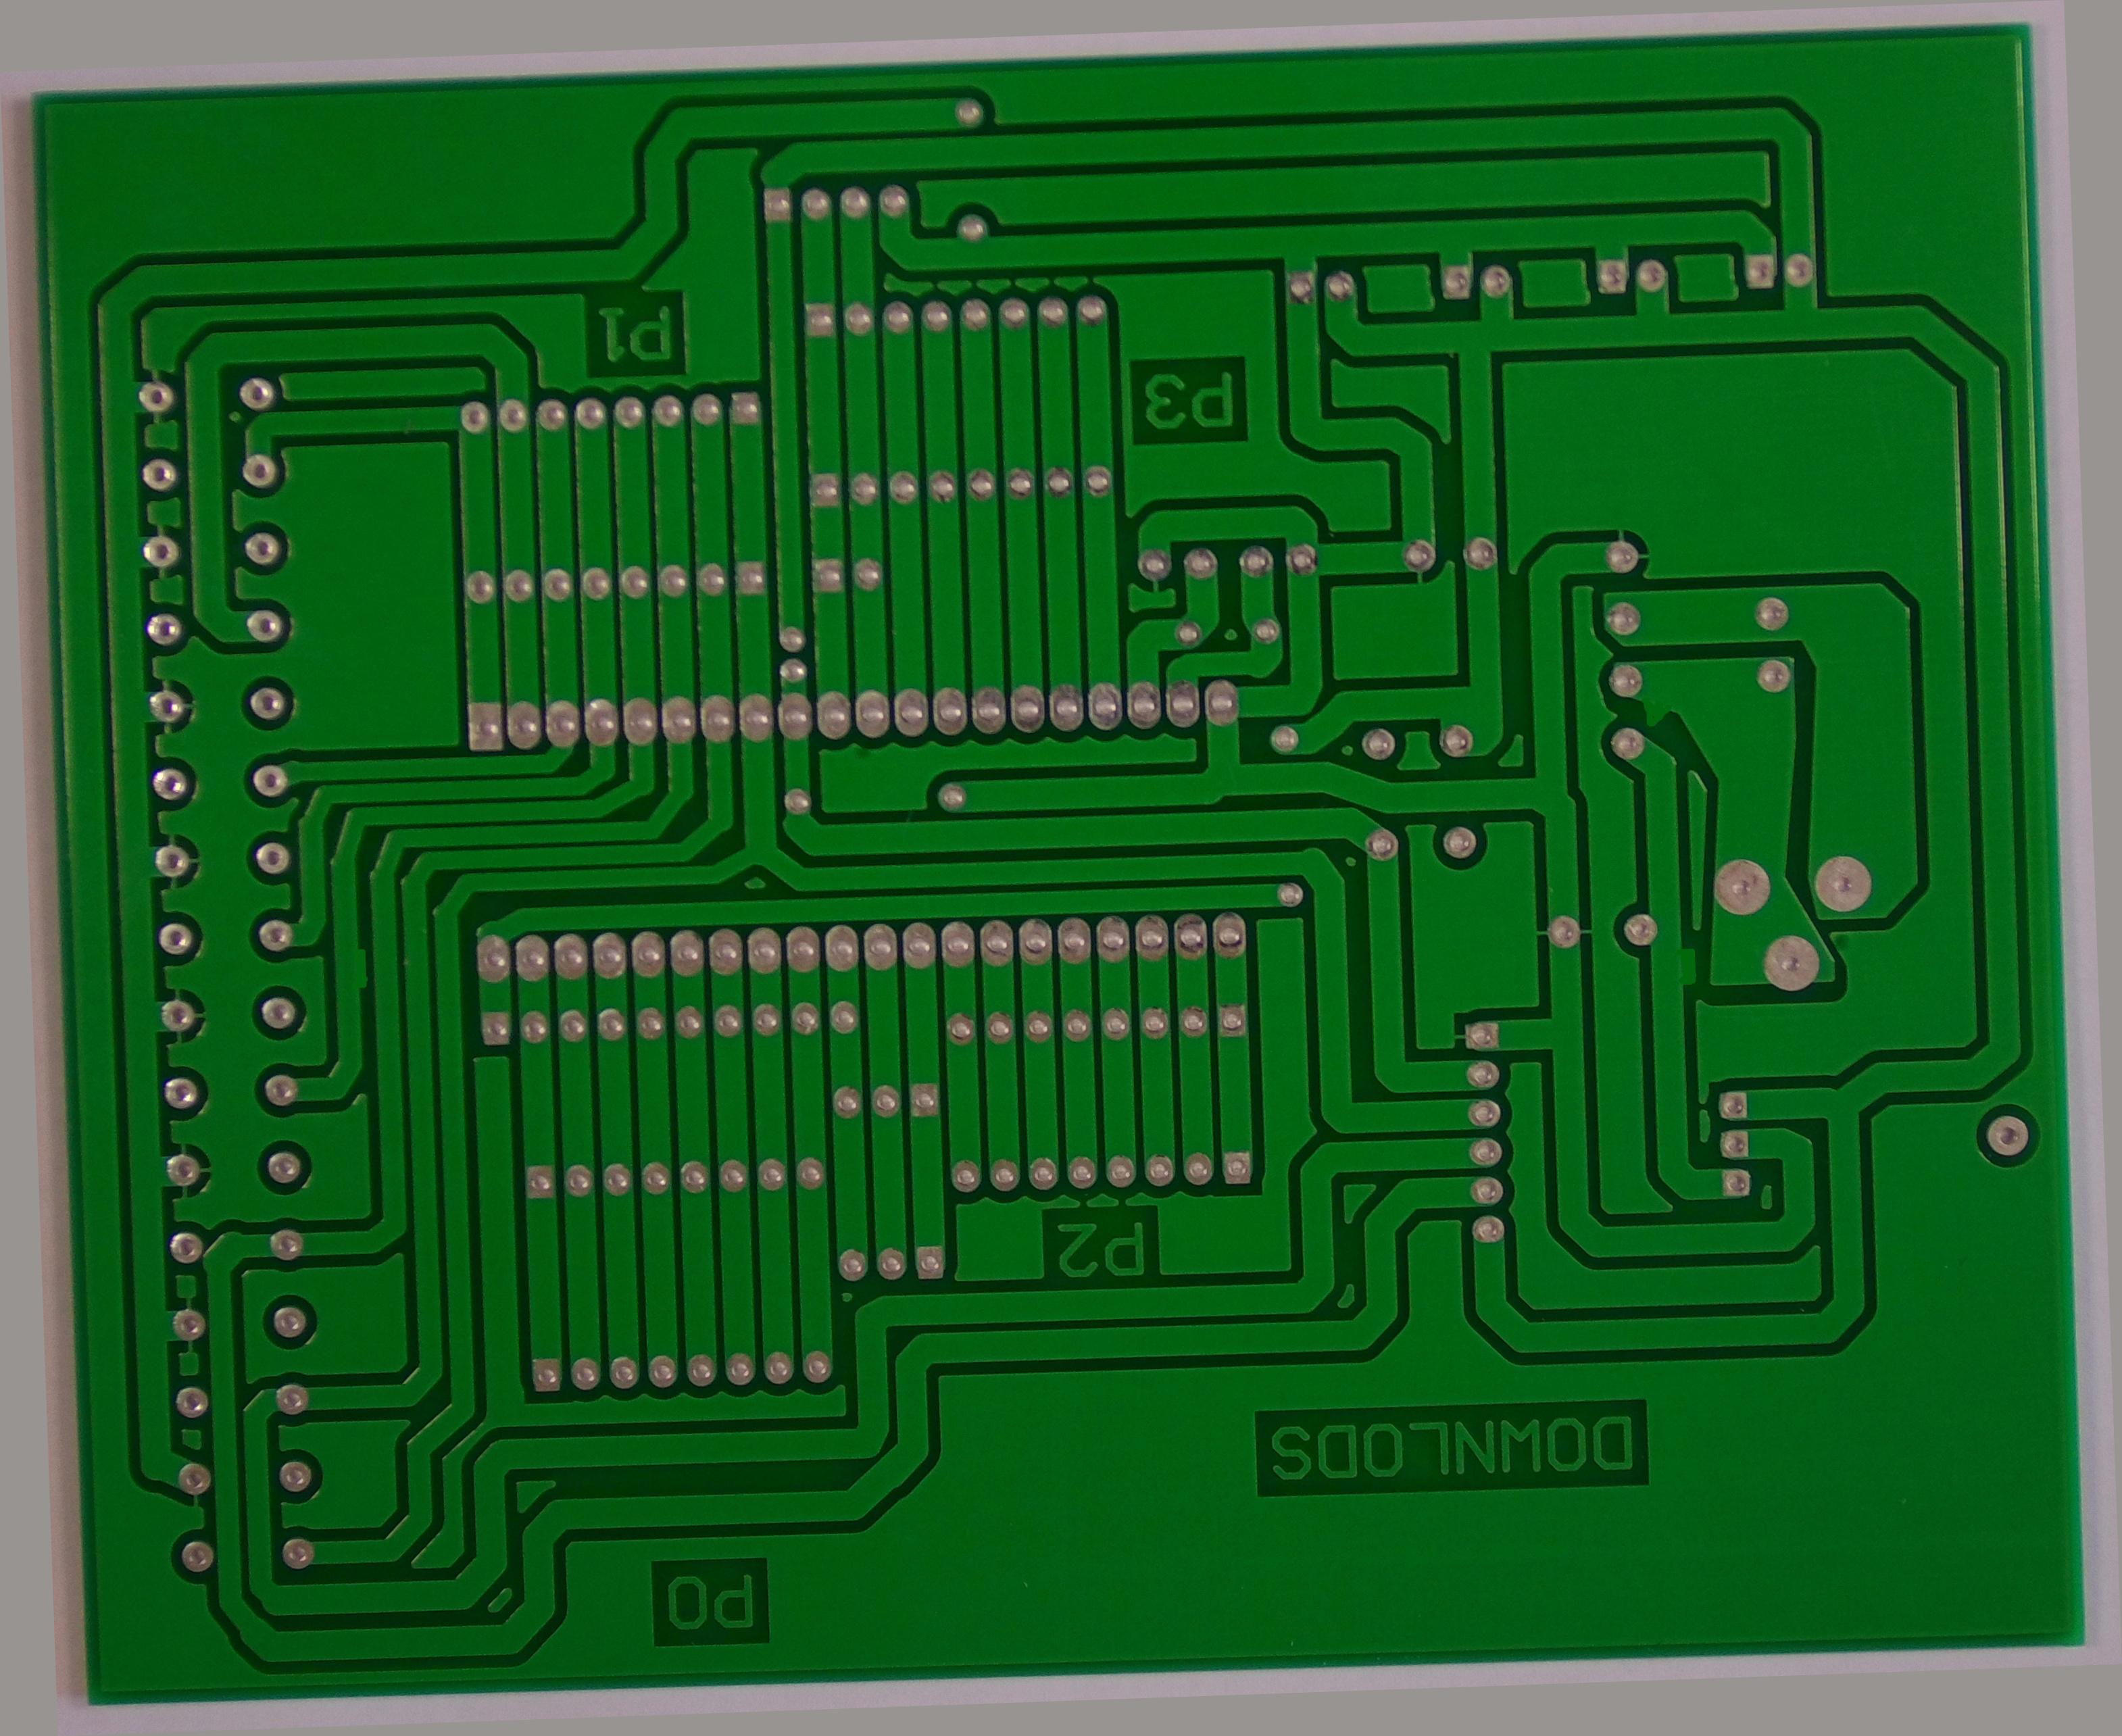spur: (338, 934, 377, 1001), (1664, 936, 1704, 999), (1634, 689, 1687, 733)
